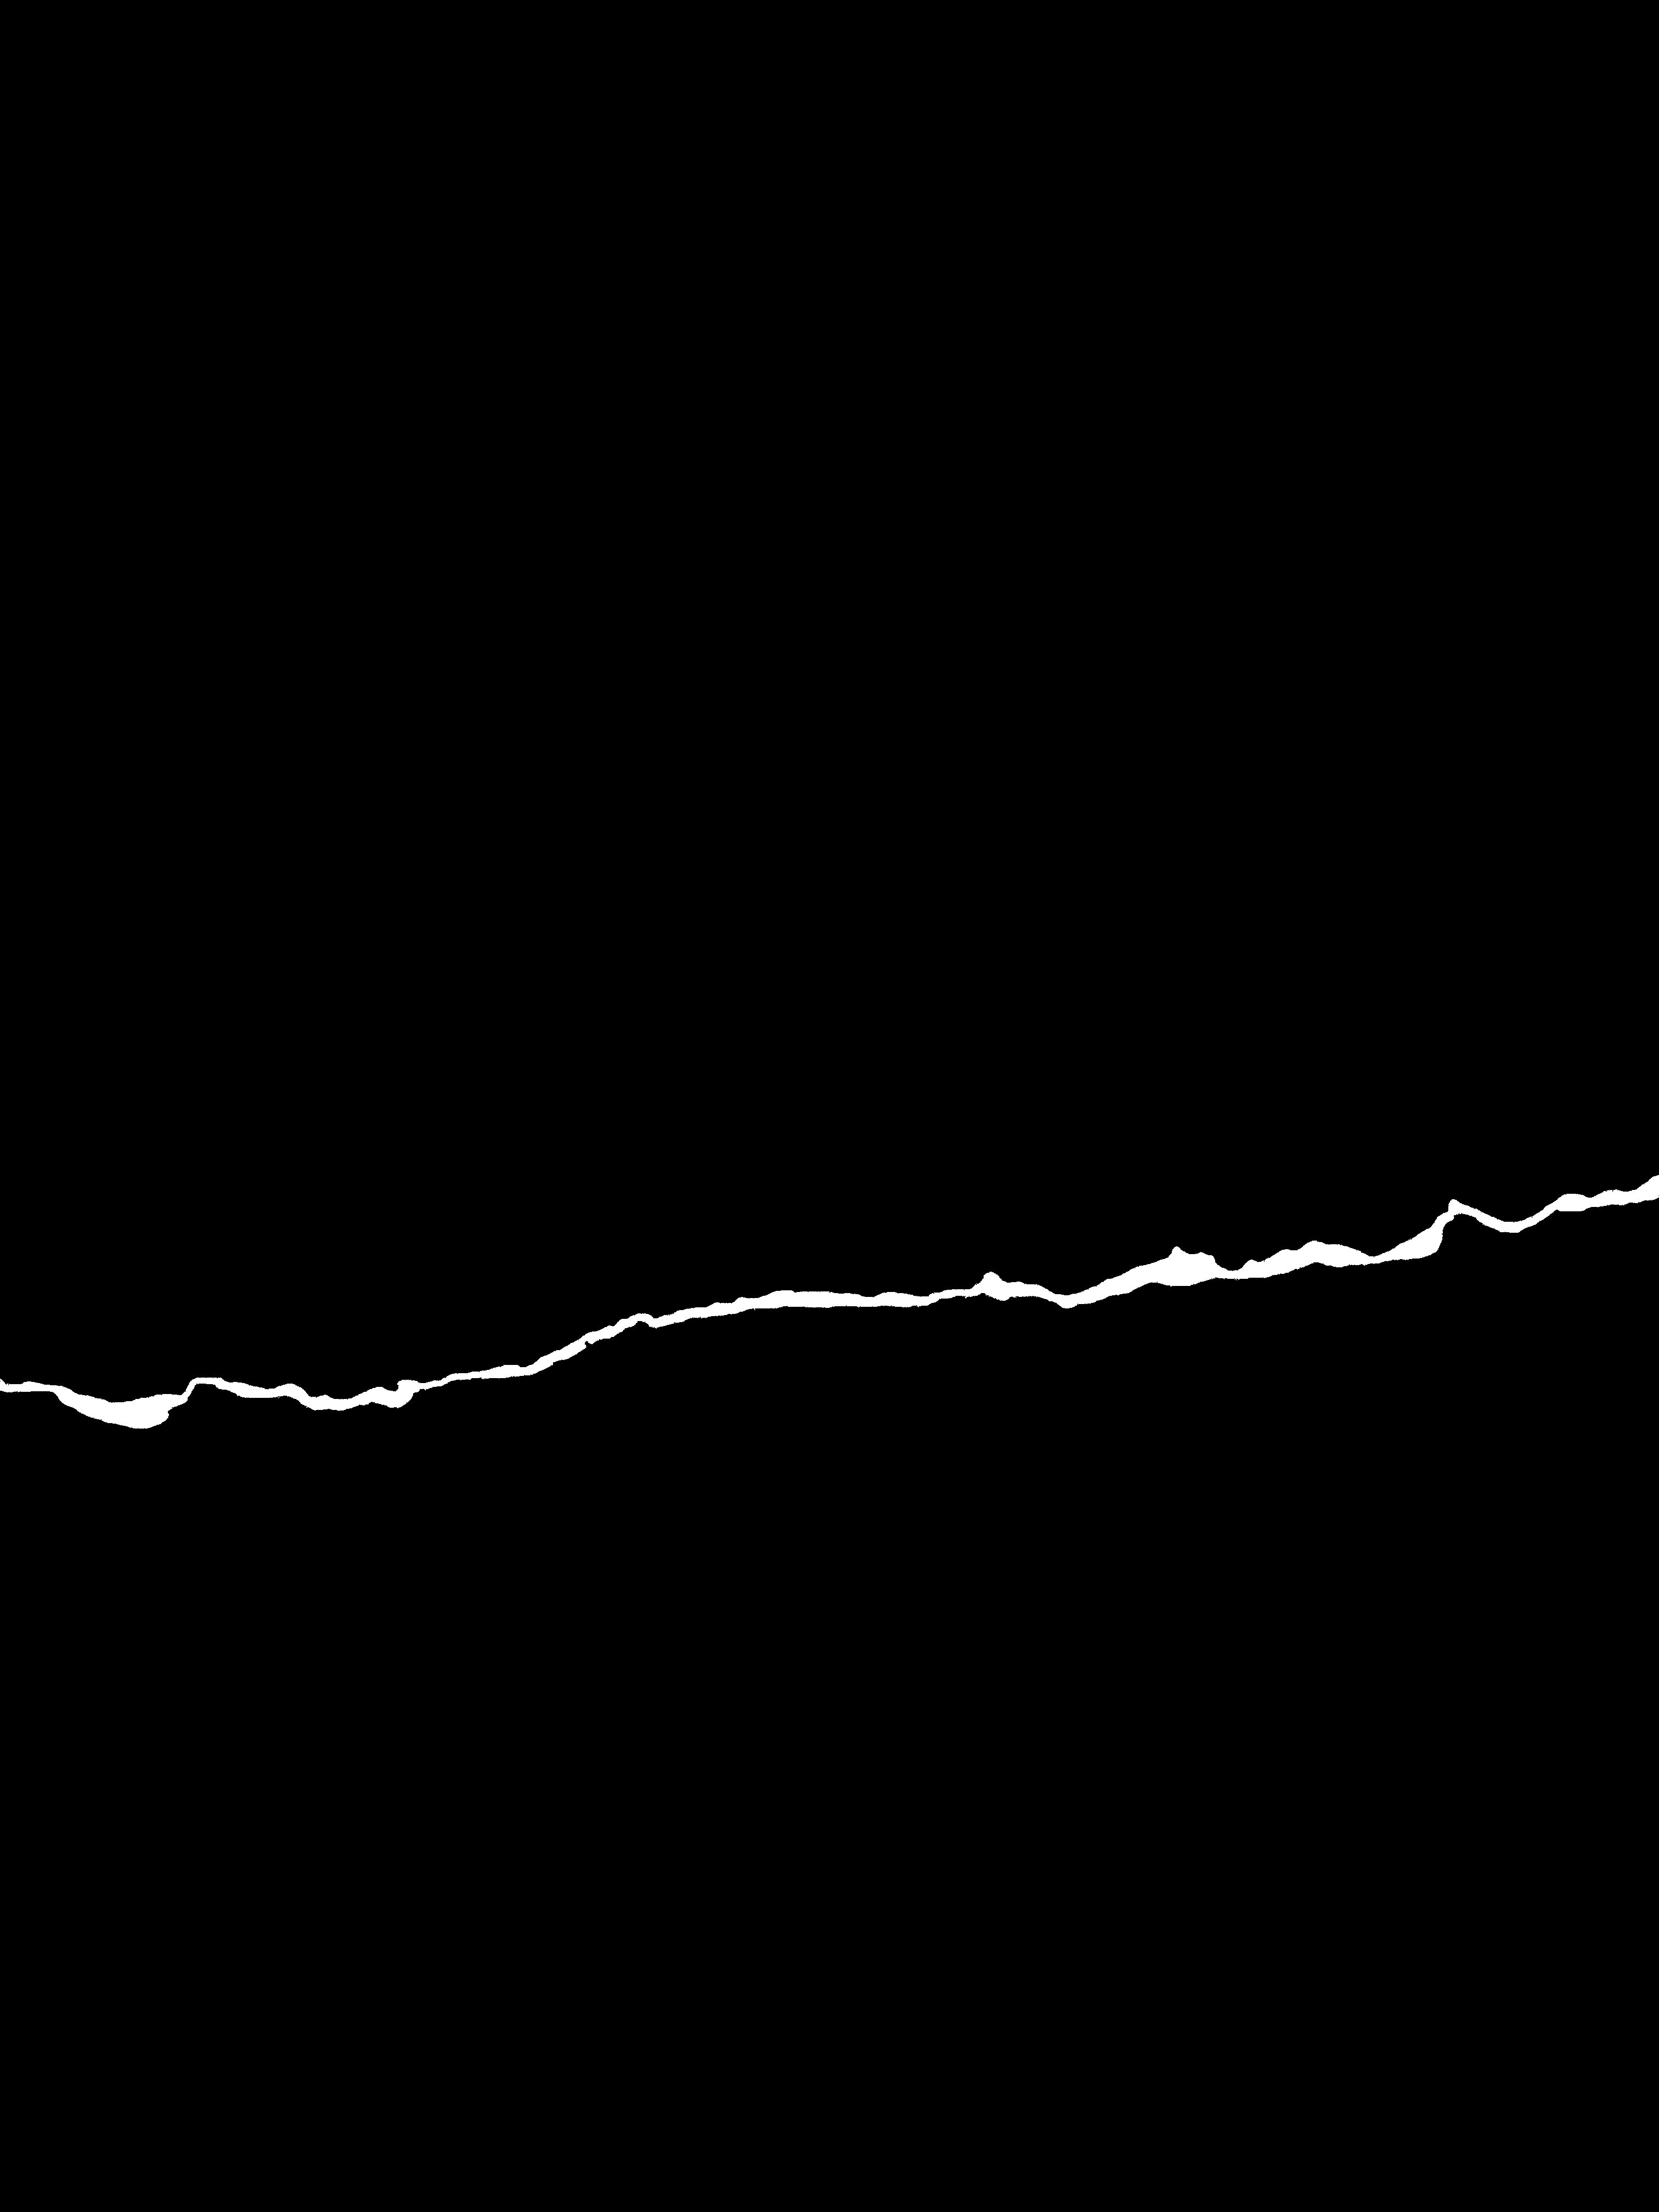Crack: (0, 1151, 1659, 1442)
